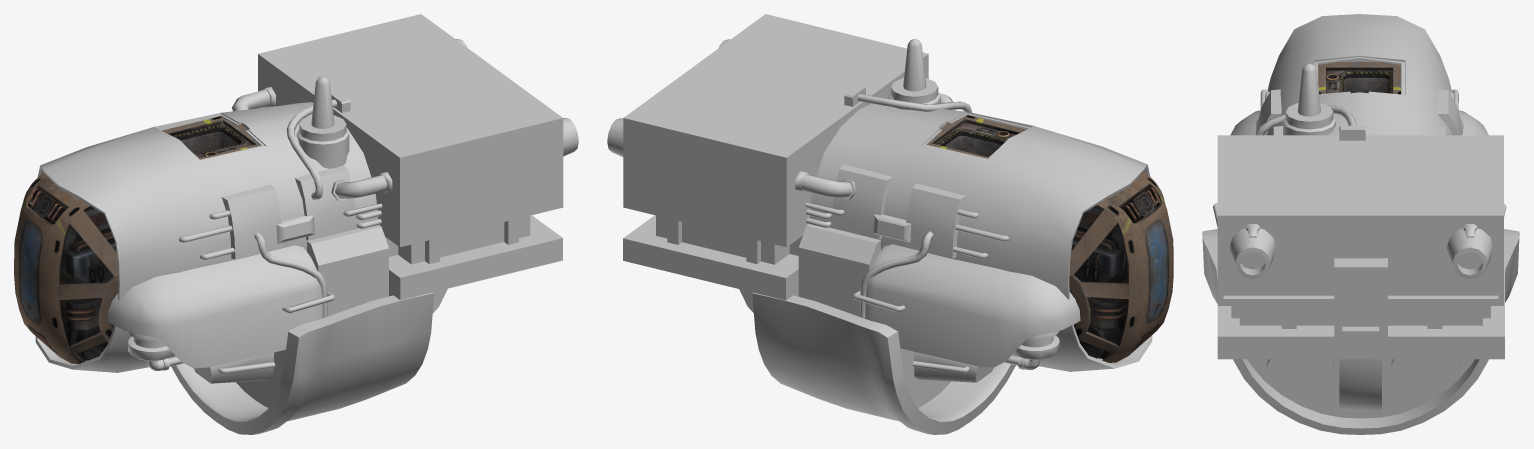
File: 03_02_worker_medium_maintenance.dae
The picture shows the model from 3 angles, left to right: view 1: azimuth 30°, elevation 25°; view 2: azimuth 150°, elevation 25°; view 3: azimuth 270°, elevation 25°; orthographic projection.
Visible parts, largest first — view 1: worker_medium, polySurface255, polySurface244; view 2: worker_medium, polySurface255, polySurface244; view 3: worker_medium, polySurface244, polySurface255.
Part boxes in pixels (left/top/right/bottom): worker_medium: left=35, top=14, right=578, bottom=434; polySurface255: left=14, top=116, right=260, bottom=363; polySurface244: left=172, top=123, right=252, bottom=157; worker_medium: left=607, top=14, right=1152, bottom=434; polySurface255: left=927, top=115, right=1173, bottom=362; polySurface244: left=935, top=122, right=1015, bottom=156; worker_medium: left=1202, top=14, right=1519, bottom=434; polySurface244: left=1326, top=70, right=1393, bottom=93; polySurface255: left=1318, top=62, right=1400, bottom=94.
Bounding box in the file's own units: 1.15 × 0.7719 × 0.6396.
